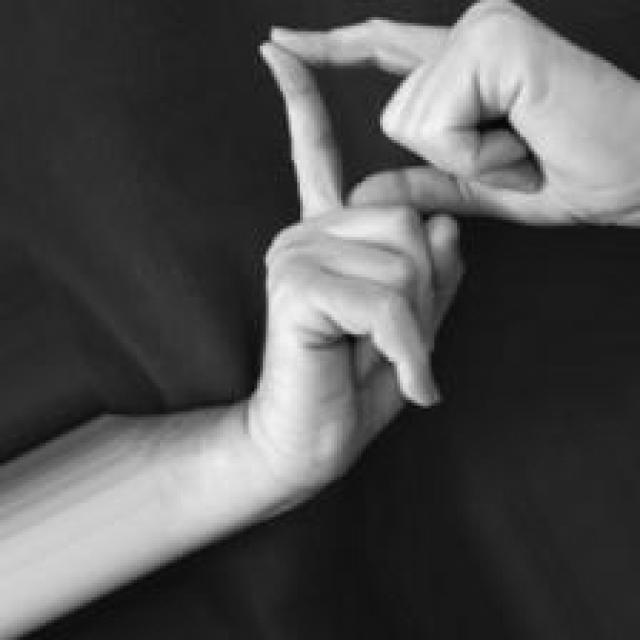D: (254, 0, 612, 509)
